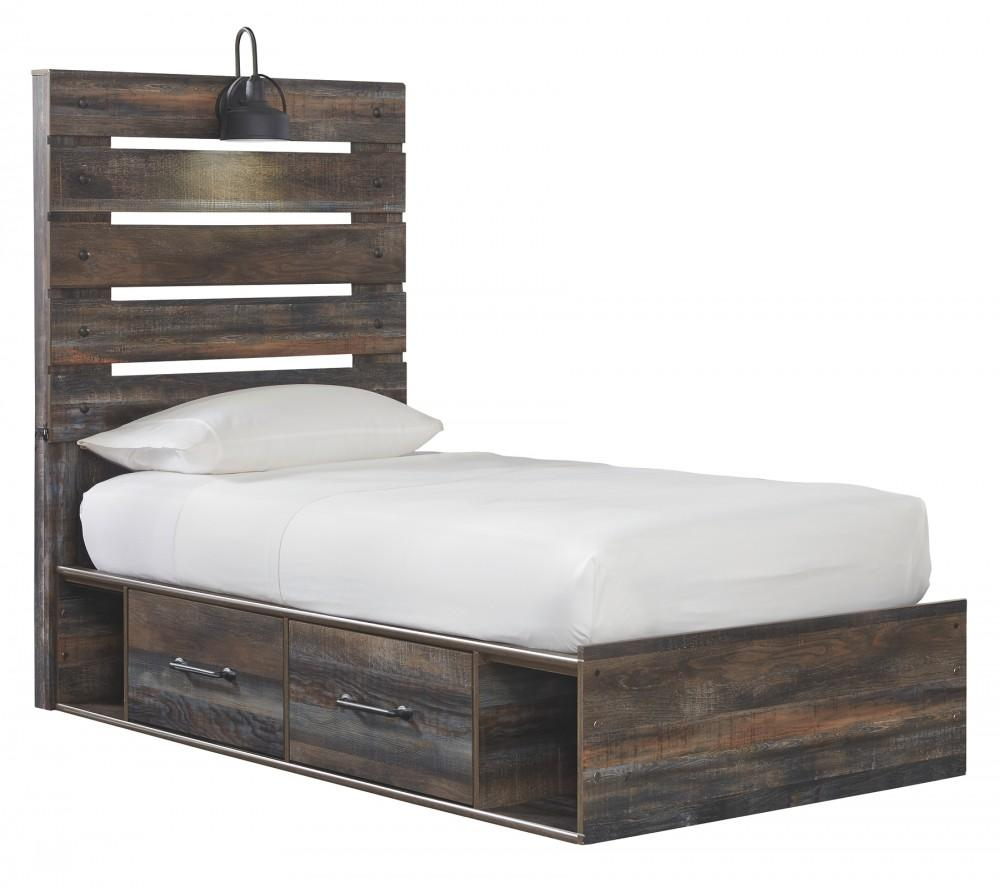bed: (2, 204, 922, 718)
